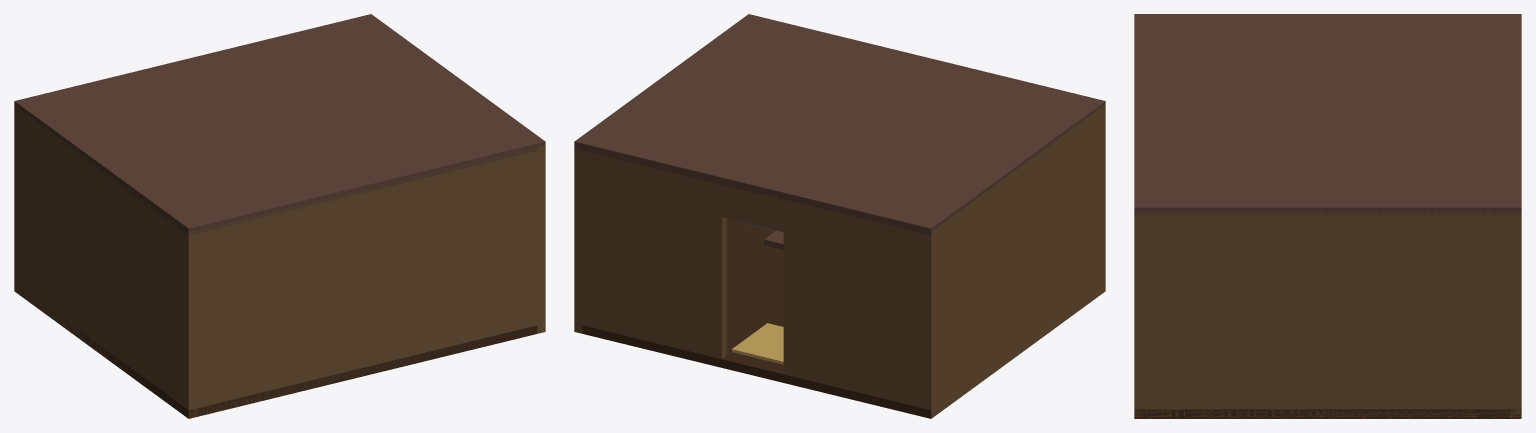
The model's file is cottage.glb.
The picture shows the model from 3 angles, left to right: view 1: azimuth 30°, elevation 25°; view 2: azimuth 150°, elevation 25°; view 3: azimuth 270°, elevation 25°; orthographic projection. The views are drawn at different scales.
Visible parts, largest first — view 1: ceiling, wall_north, wall_west, floor, wall_east, wall_south_l; view 2: ceiling, wall_west, wall_south_r, wall_south_l, floor, wall_south_lintel, wall_east, interior_exit_pad; view 3: ceiling, wall_east, floor, wall_north, wall_south_r.
Boxes of the visible parts, x1=… form: ceiling: x1=14, y1=14, x2=545, y2=235; wall_north: x1=184, y1=148, x2=537, y2=417; wall_west: x1=14, y1=108, x2=196, y2=417; floor: x1=19, y1=287, x2=537, y2=418; wall_east: x1=537, y1=145, x2=545, y2=333; wall_south_l: x1=14, y1=105, x2=18, y2=294; ceiling: x1=574, y1=14, x2=1105, y2=235; wall_west: x1=923, y1=105, x2=1105, y2=418; wall_south_r: x1=576, y1=148, x2=726, y2=359; wall_south_l: x1=783, y1=200, x2=935, y2=416; floor: x1=582, y1=218, x2=931, y2=418; wall_south_lintel: x1=722, y1=183, x2=783, y2=231; wall_east: x1=574, y1=145, x2=727, y2=333; interior_exit_pad: x1=732, y1=323, x2=783, y2=364; ceiling: x1=1134, y1=14, x2=1521, y2=215; wall_east: x1=1134, y1=211, x2=1521, y2=418; floor: x1=1134, y1=409, x2=1521, y2=418; wall_north: x1=1134, y1=211, x2=1144, y2=418; wall_south_r: x1=1511, y1=211, x2=1521, y2=418.
Bounding box in the file's own units: 5.2 × 2.65 × 4.4.
